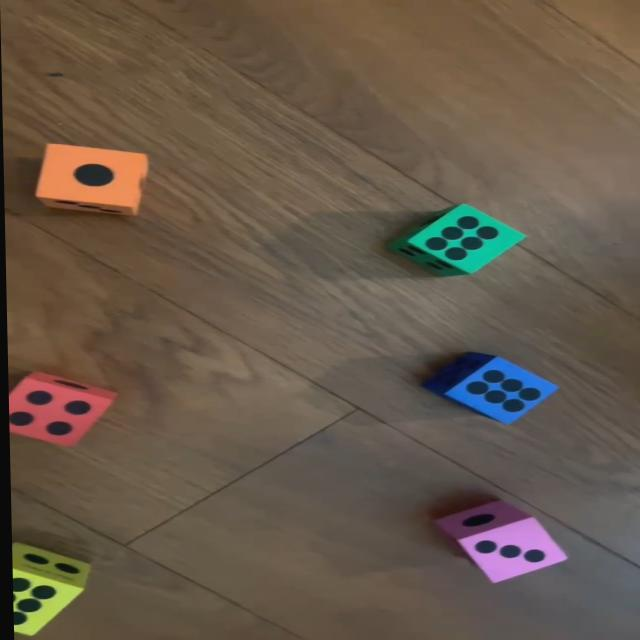cube: (389, 205, 526, 278), (420, 355, 561, 425), (7, 373, 119, 449)
